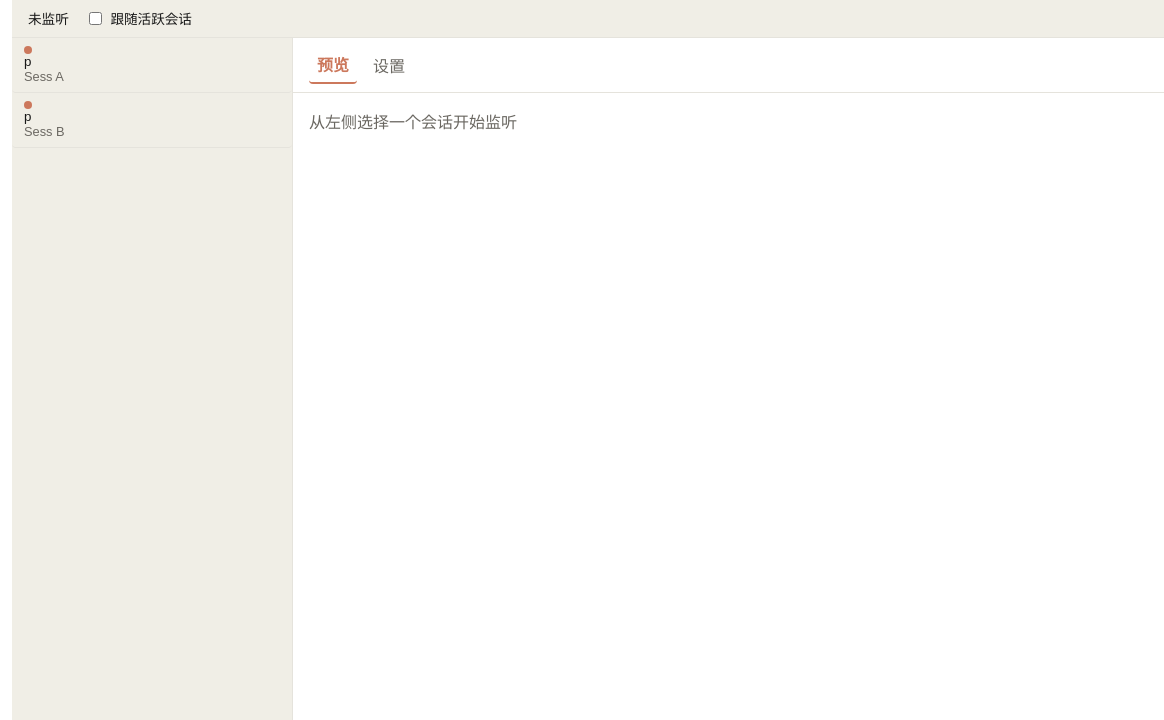
Test: App + real mermaid: session switch does not degrade a rendered diagram to a code block › still shows the diagram after switching away and back to a previously-rendered session
Step 1. Click the text "Sess A" → (44, 76), box [24, 69, 64, 84]
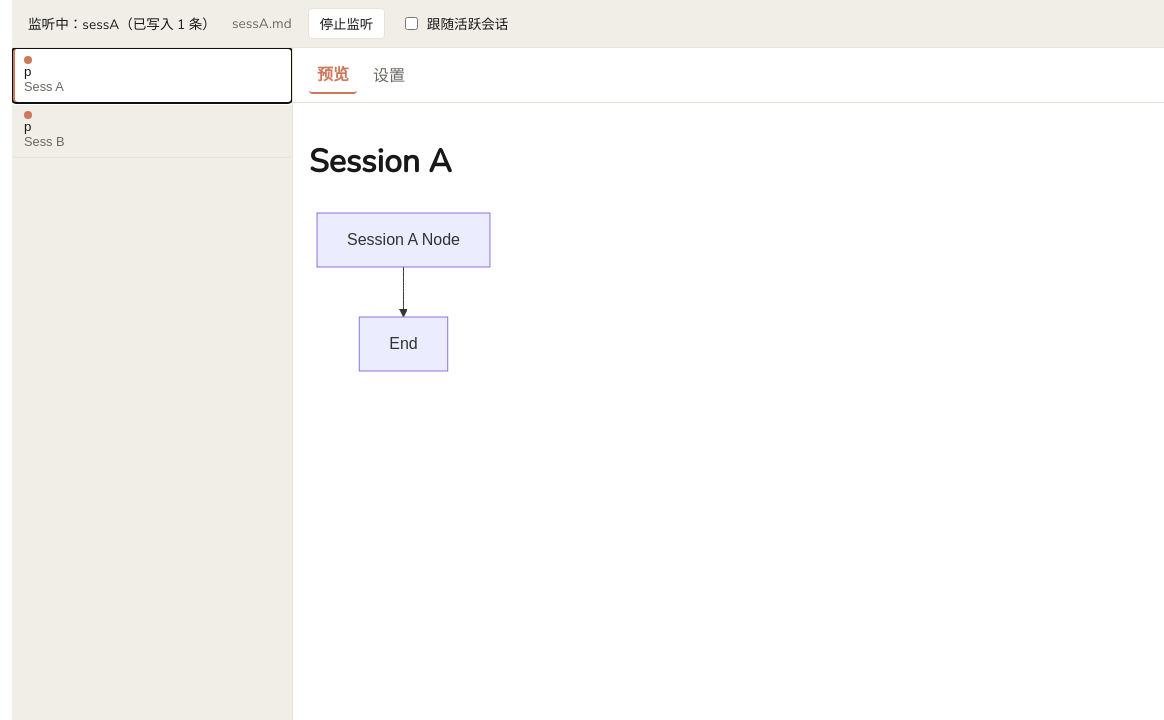
Result: the icon "Session A Node End" is shown at [309, 205, 498, 379]
Step 2. Click the text "Sess B" → (44, 141), box [24, 134, 64, 149]
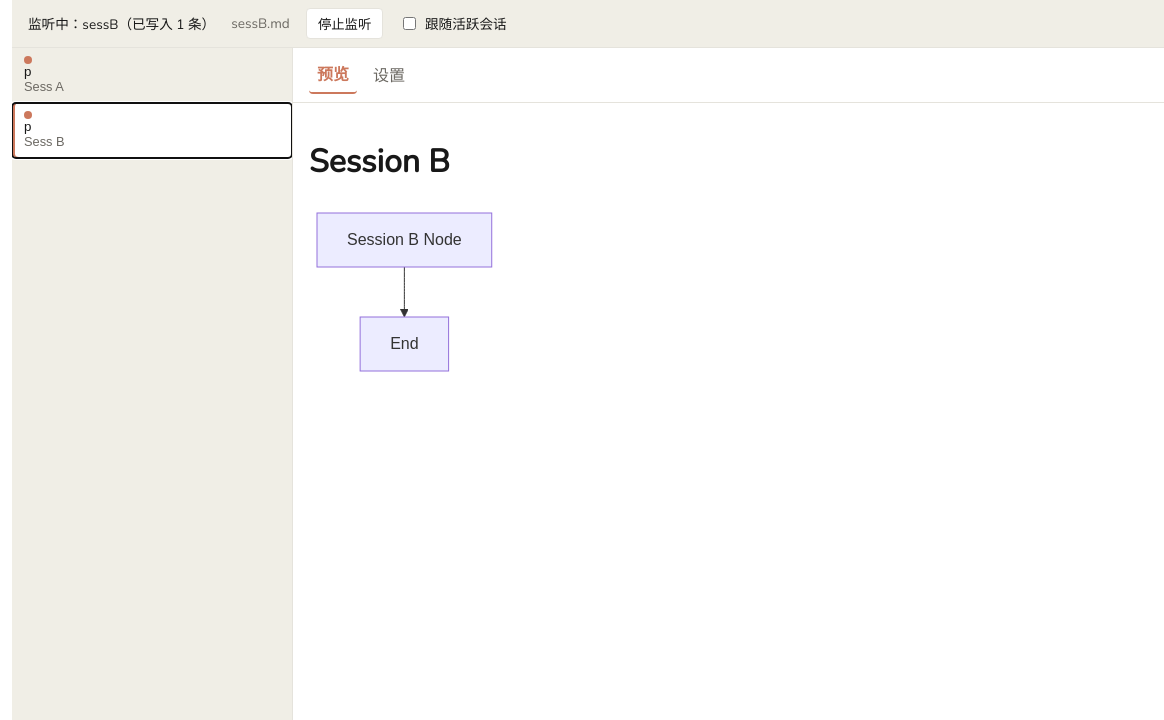
Step 3. Click the text "Sess A" → (44, 86), box [24, 79, 64, 94]
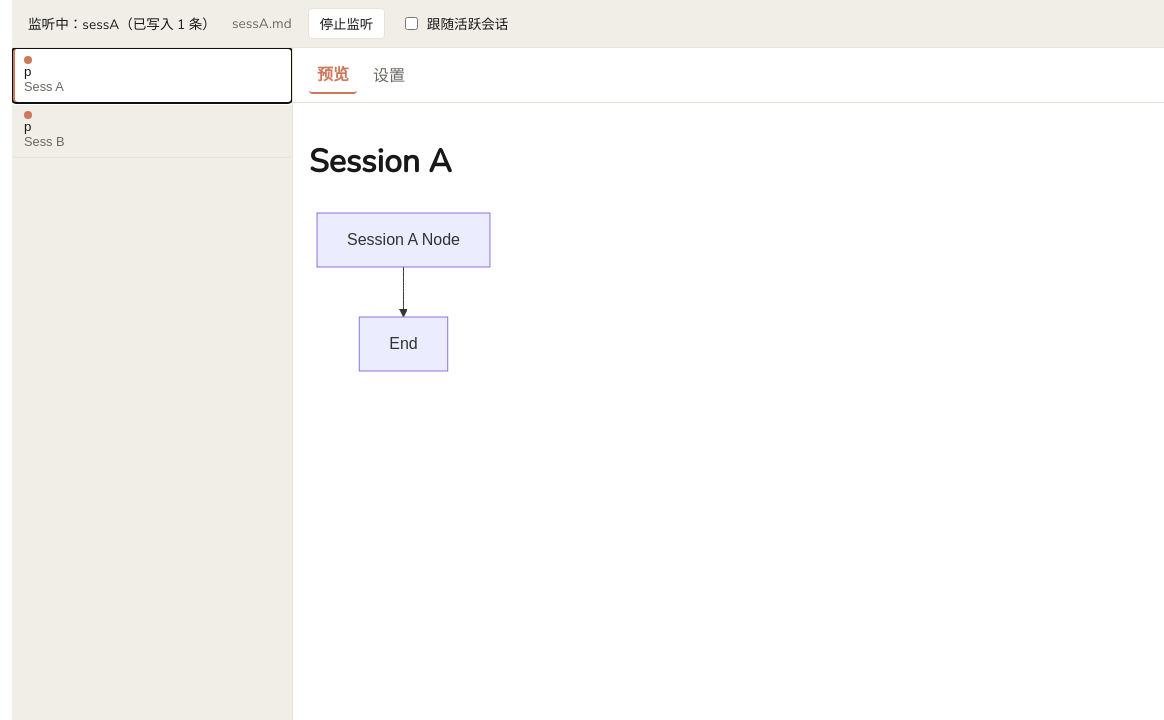
Result: the icon "Session A Node End" is shown at [309, 205, 498, 379]
